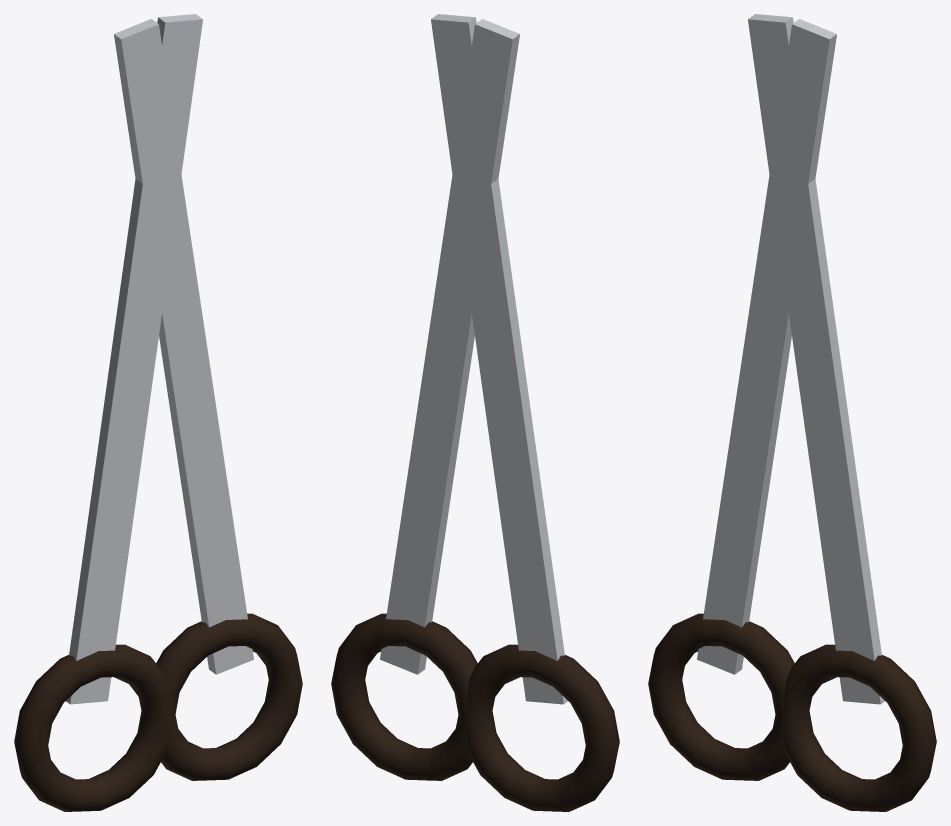
The model's file is shears.glb.
The picture shows the model from 3 angles, left to right: view 1: azimuth 30°, elevation 25°; view 2: azimuth 150°, elevation 25°; view 3: azimuth 330°, elevation 25°; orthographic projection.
Parts seen in each view (by area): view 1: blade0, blade1, handle1, handle0; view 2: blade0, blade1, handle1, handle0; view 3: blade0, blade1, handle0, handle1.
Boxes of the visible parts, left/top/right/bottom form: blade0: left=114, top=19, right=253, bottom=674; blade1: left=66, top=14, right=202, bottom=704; handle1: left=14, top=644, right=167, bottom=811; handle0: left=156, top=613, right=302, bottom=780; blade0: left=380, top=19, right=519, bottom=674; blade1: left=431, top=14, right=567, bottom=704; handle1: left=466, top=644, right=619, bottom=811; handle0: left=331, top=613, right=477, bottom=780; blade0: left=748, top=14, right=884, bottom=704; blade1: left=697, top=19, right=836, bottom=674; handle0: left=783, top=644, right=936, bottom=811; handle1: left=648, top=613, right=794, bottom=780.
Size of the model in its own units: 0.224 by 0.5814 by 0.024.
